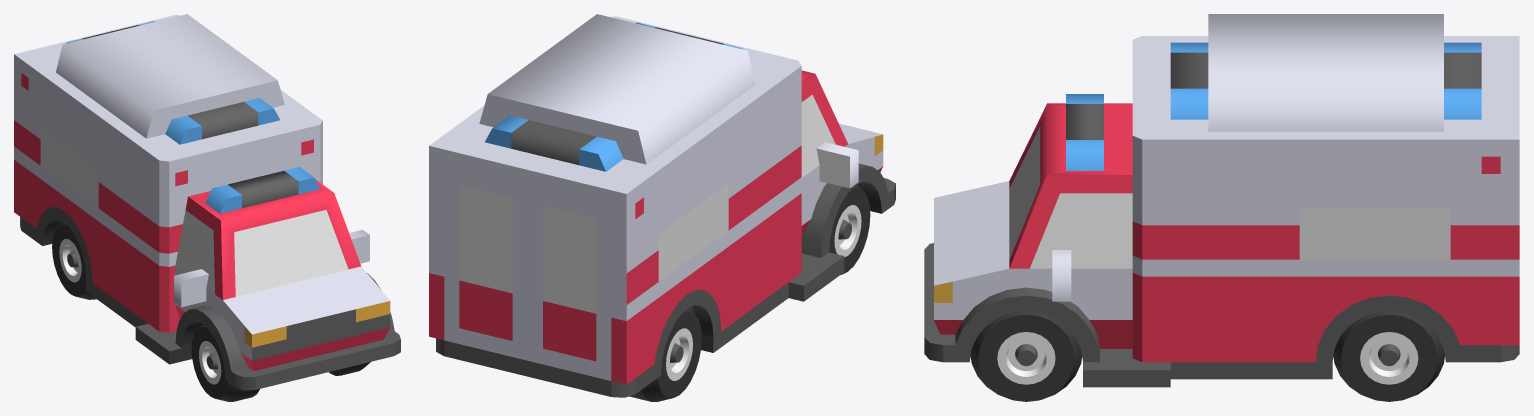
Rendered from ambulance.obj.
3 renders of one model, left to right at view 1: azimuth 30°, elevation 25°; view 2: azimuth 150°, elevation 25°; view 3: azimuth 270°, elevation 25°, orthographic. The views are drawn at different scales.
Visible parts, largest first — view 1: body, wheel_frontRight, wheel_backRight; view 2: body, doorRight, doorLeft, wheel_backRight, wheel_frontRight; view 3: body, wheel_backLeft, wheel_frontLeft.
Part boxes in pixels (x1,y1,x2,y2): body: (14,14,400,390); wheel_frontRight: (191,324,259,401); wheel_backRight: (52,222,96,299); body: (429,14,895,397); doorRight: (527,186,611,380); doorLeft: (444,165,527,360); wheel_backRight: (629,308,701,401); wheel_frontRight: (829,185,870,274); body: (924,14,1519,387); wheel_backLeft: (1333,311,1444,401); wheel_frontLeft: (970,311,1082,401).
Size of the model in its own units: 1.5 by 1.8 by 3.15.
